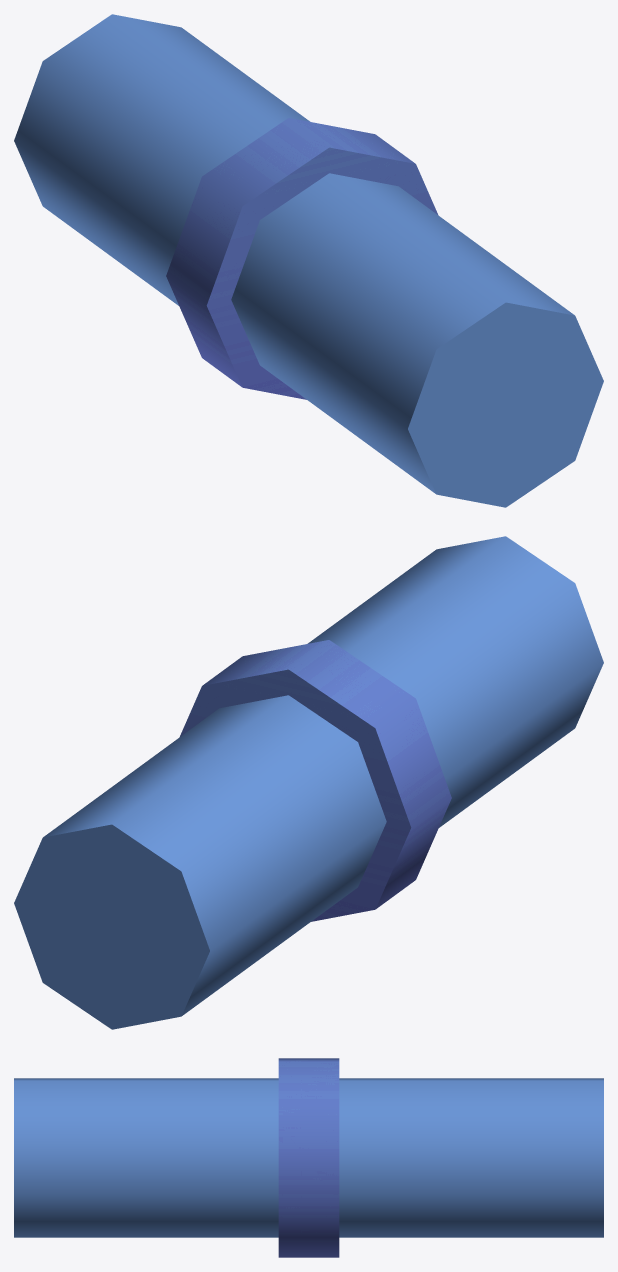
File: support-large-horizontal-ring.glb
The picture shows the model from 3 angles, top to bottom: view 1: azimuth 30°, elevation 25°; view 2: azimuth 150°, elevation 25°; view 3: azimuth 270°, elevation 25°; orthographic projection. The views are drawn at different scales.
Parts seen in each view (by area): view 1: support-large-horizontal-ring; view 2: support-large-horizontal-ring; view 3: support-large-horizontal-ring.
Boxes of the visible parts, box(x1,y1,x2,y2) form: support-large-horizontal-ring: box(14, 14, 603, 507); support-large-horizontal-ring: box(14, 536, 603, 1029); support-large-horizontal-ring: box(14, 1058, 603, 1257).
Size of the model in its own units: 0.3596 by 0.3596 by 1.
1 material, 1 textured.
